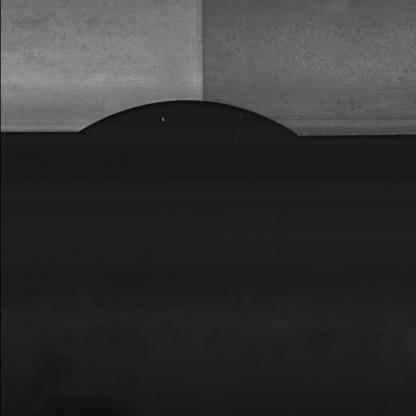crescent_gap: (66, 93, 310, 151)
welding_line: (189, 2, 230, 113)
